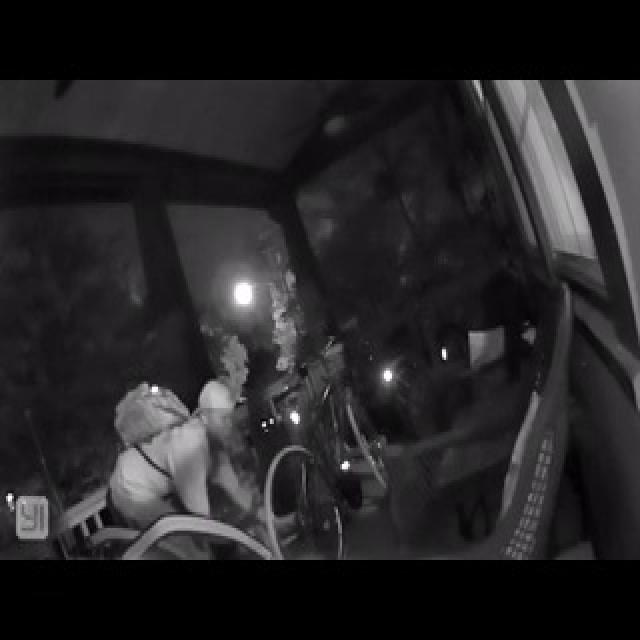thief: (113, 402, 288, 564)
